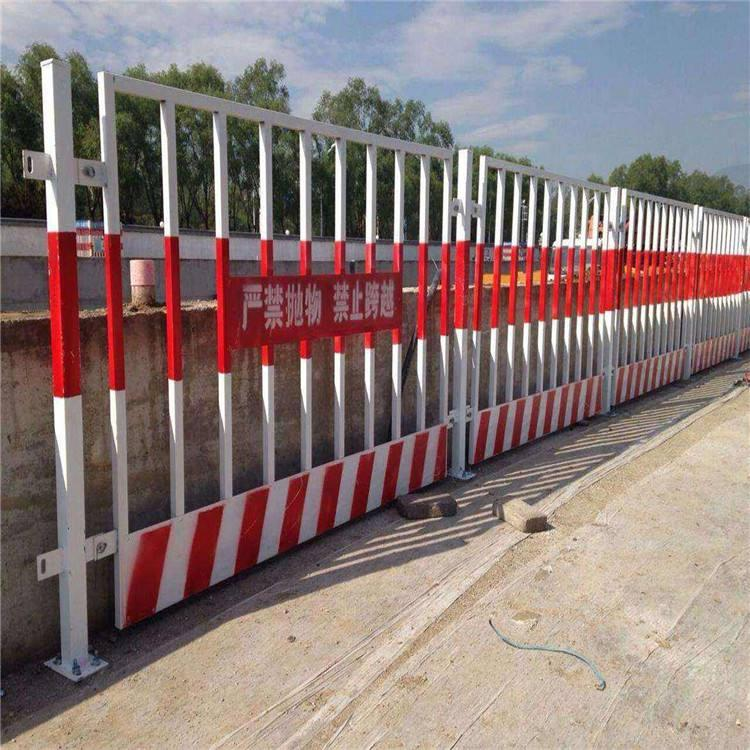sign: (17, 51, 742, 630)
